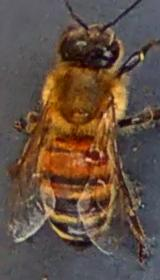varroa_mite: (74, 135, 112, 170)
